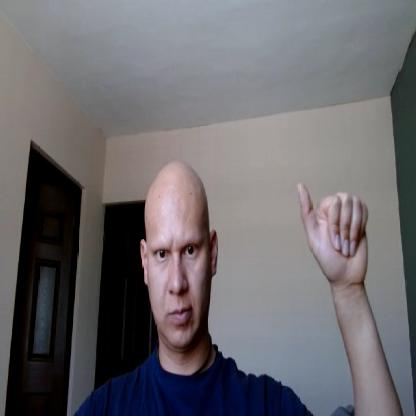A: (298, 178, 371, 288)
